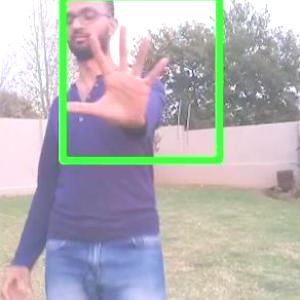follow_hand: (60, 19, 176, 128)
